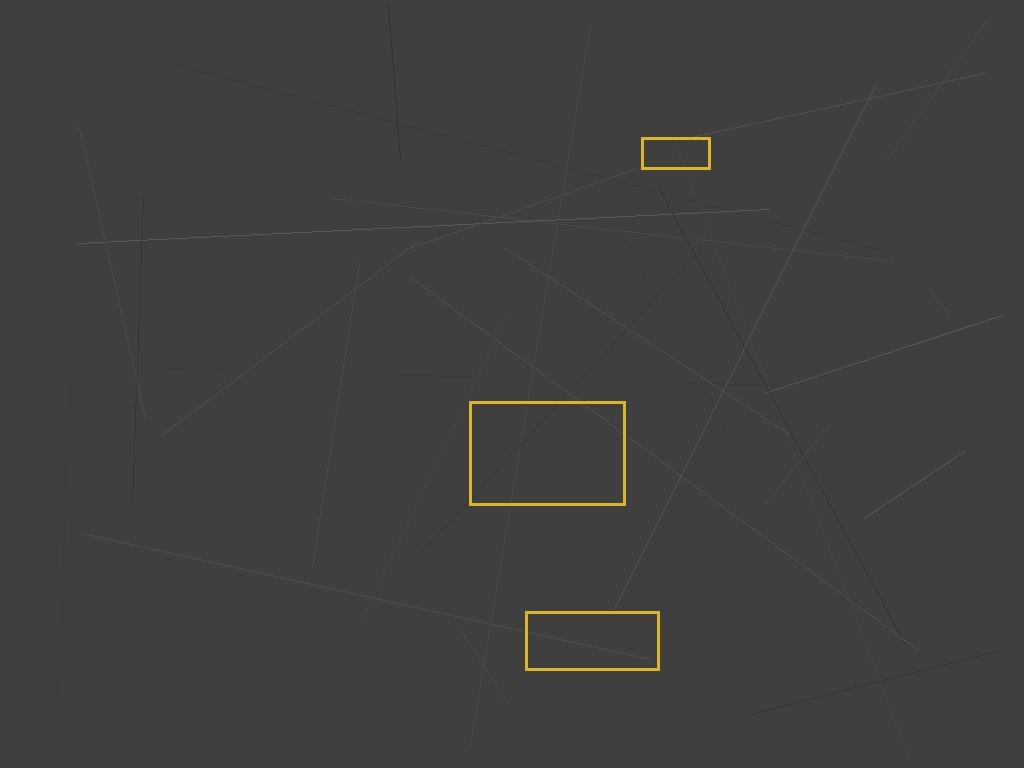D00: (469, 401, 625, 505), (525, 611, 659, 670), (641, 137, 710, 169)
